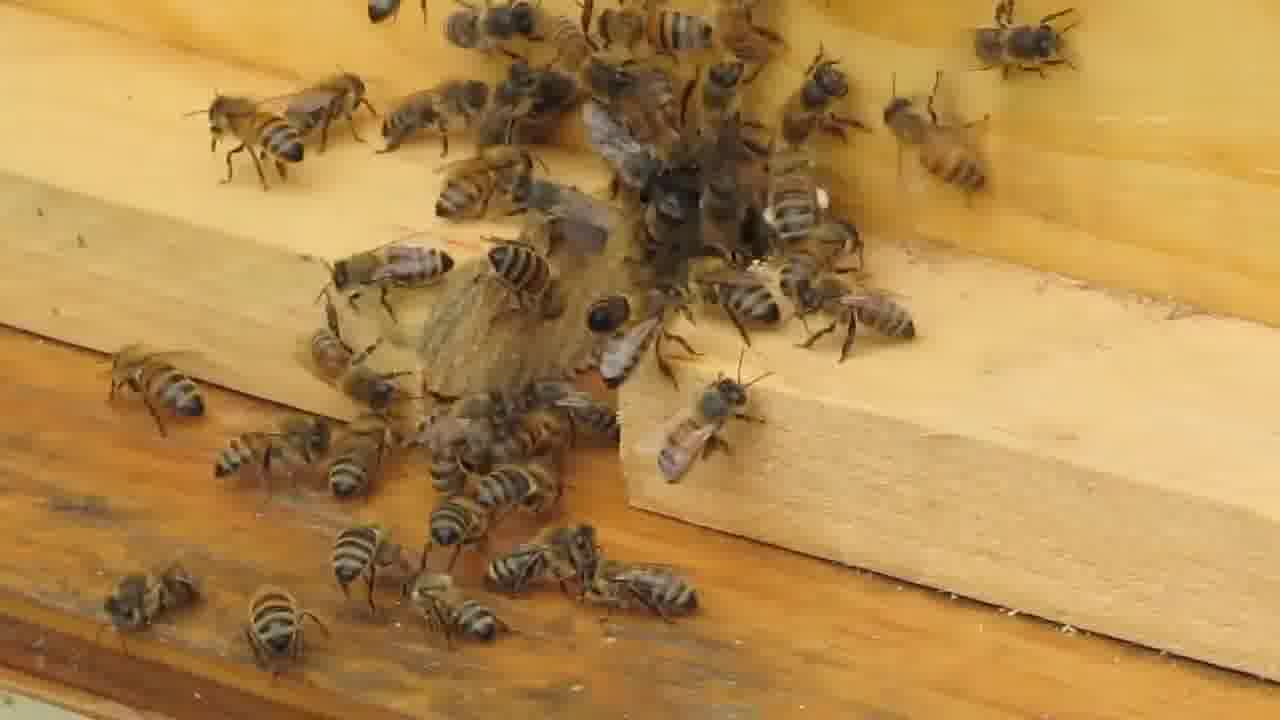pollen: (758, 177, 842, 240)
